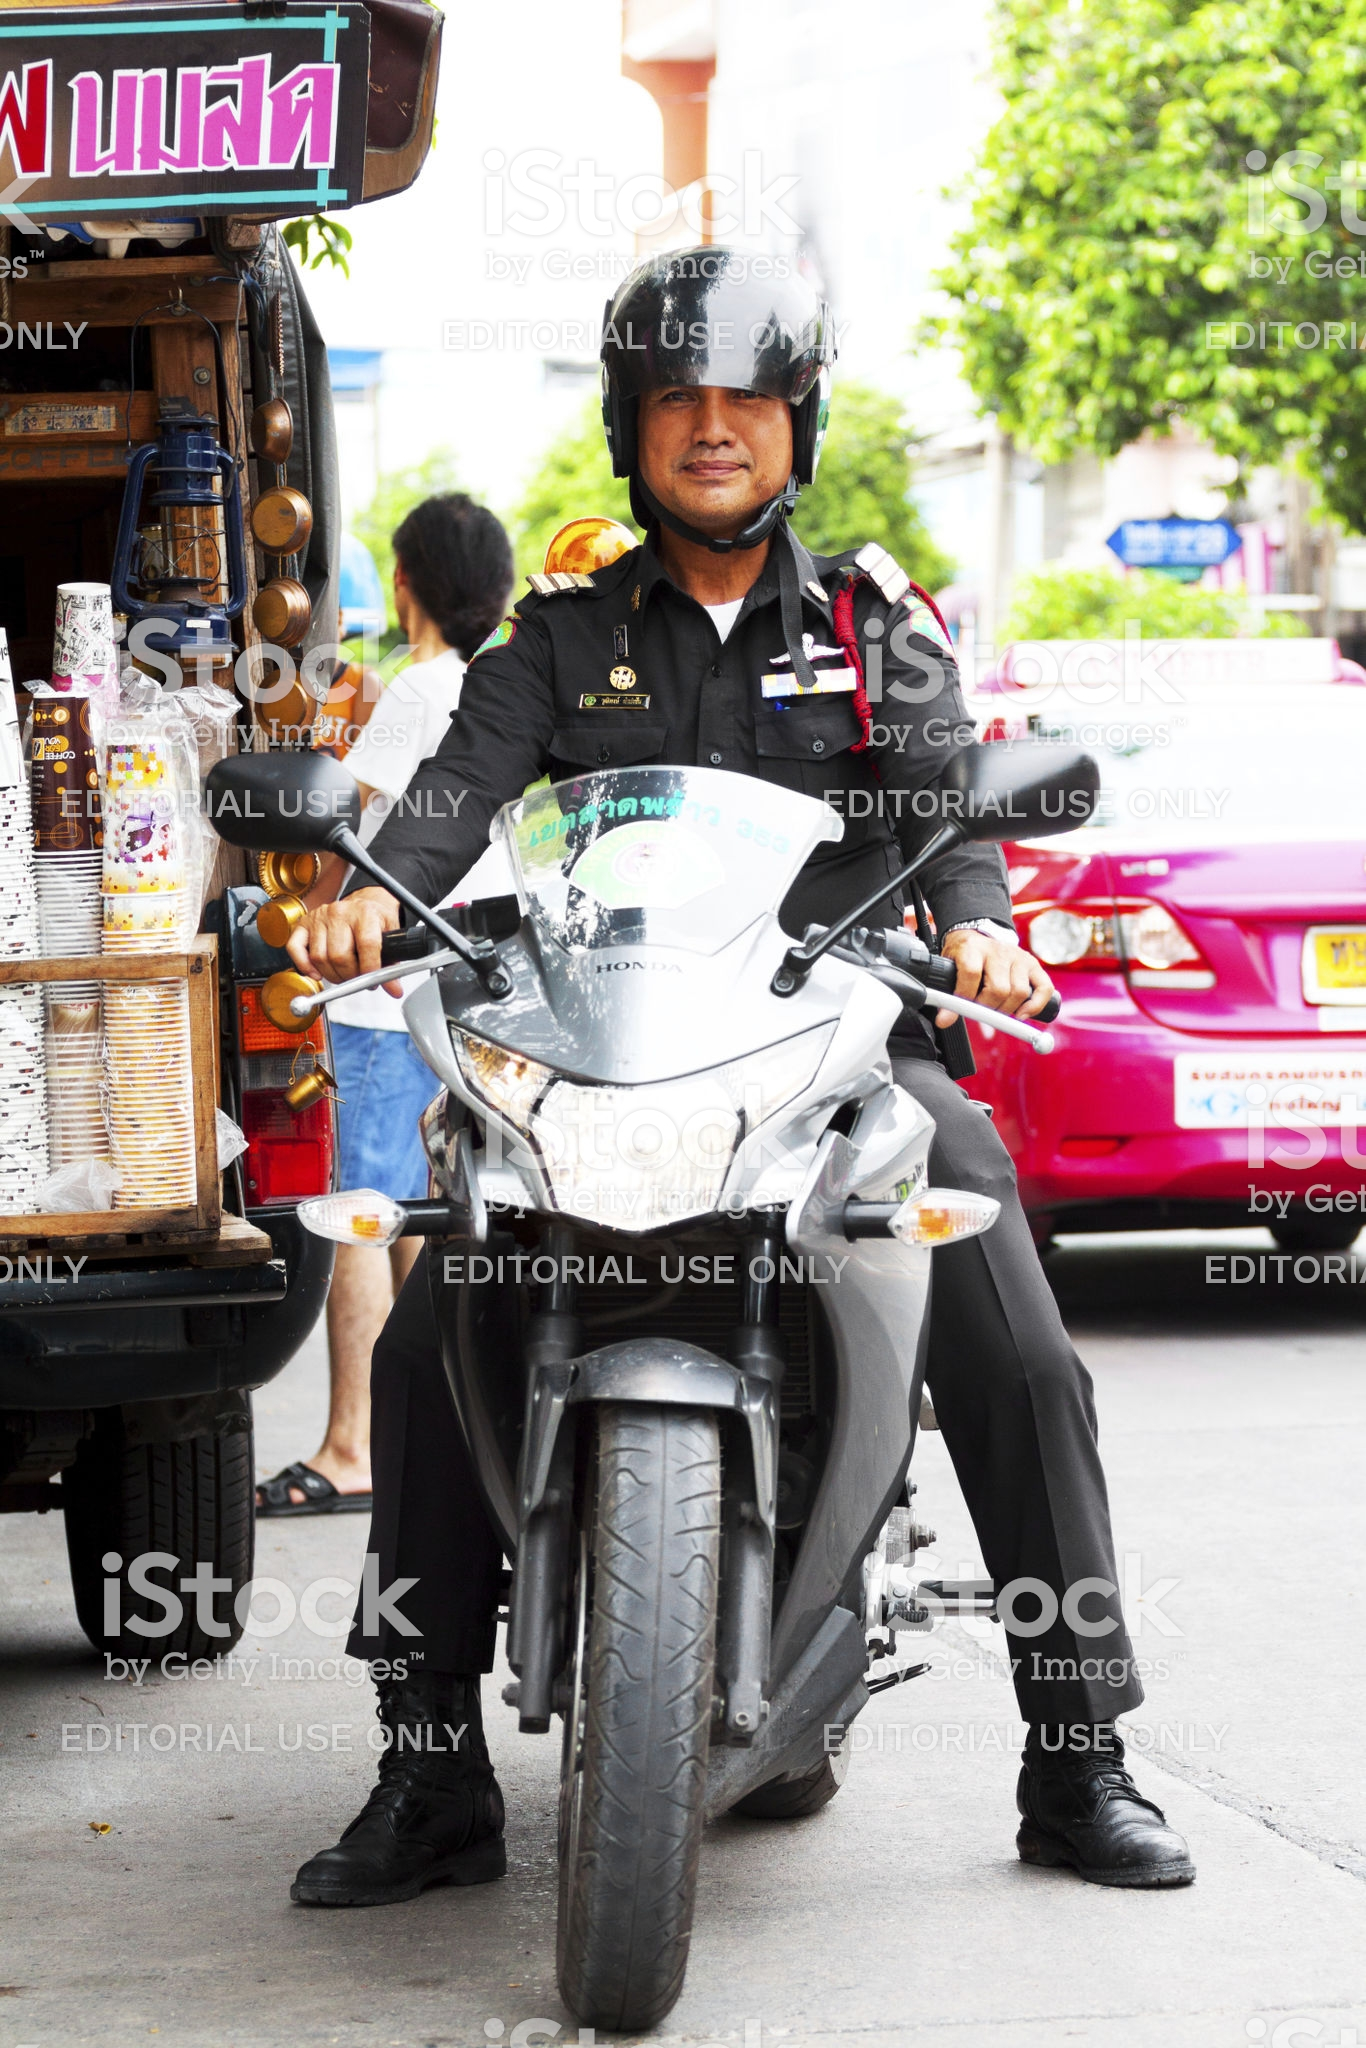helmet: (585, 226, 877, 456)
